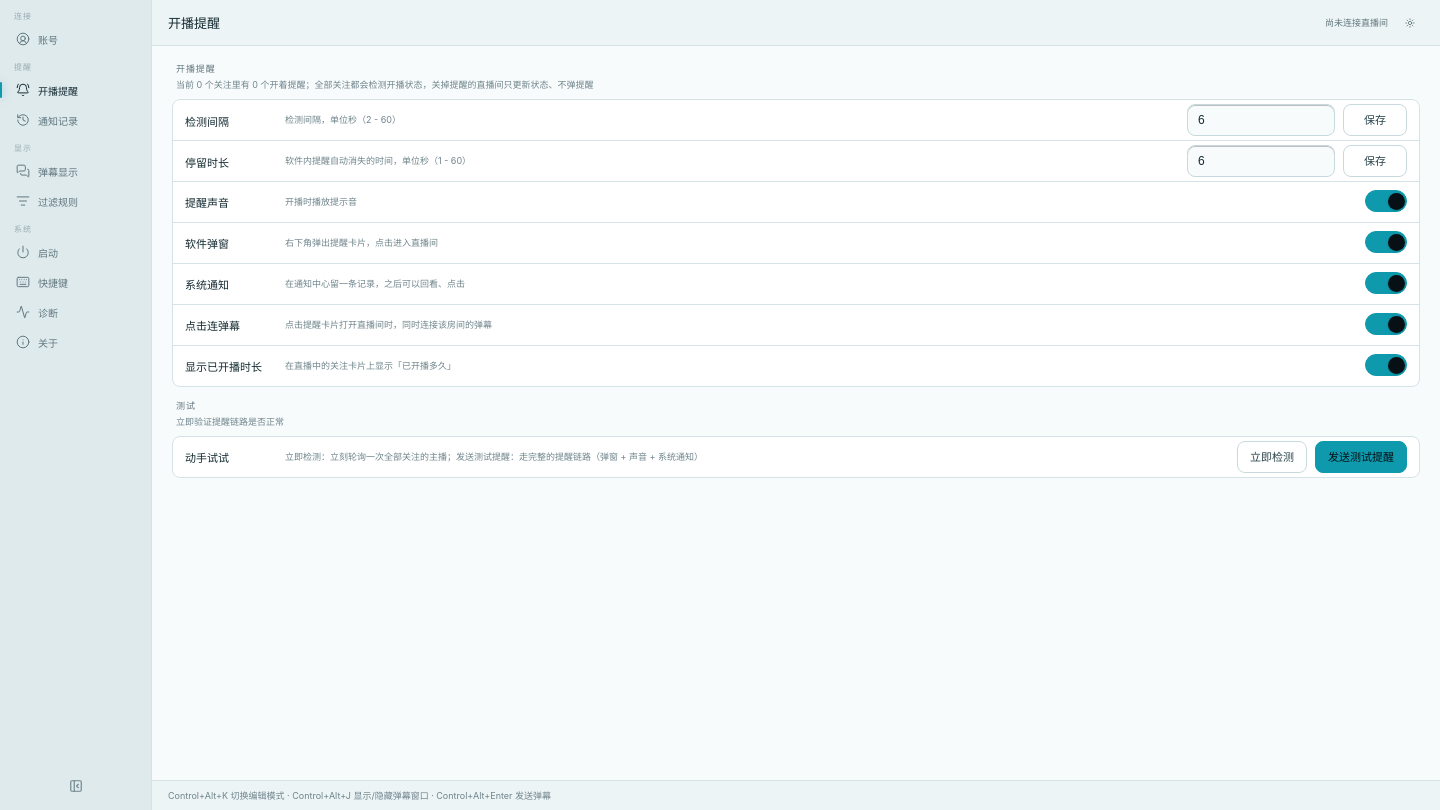
restores the prior theme and error when header theme persistence fails
The width and height of the screenshot is (1440, 810).
Click the button named "切换到亮色主题": (1410, 22) [1396, 8, 1424, 36]
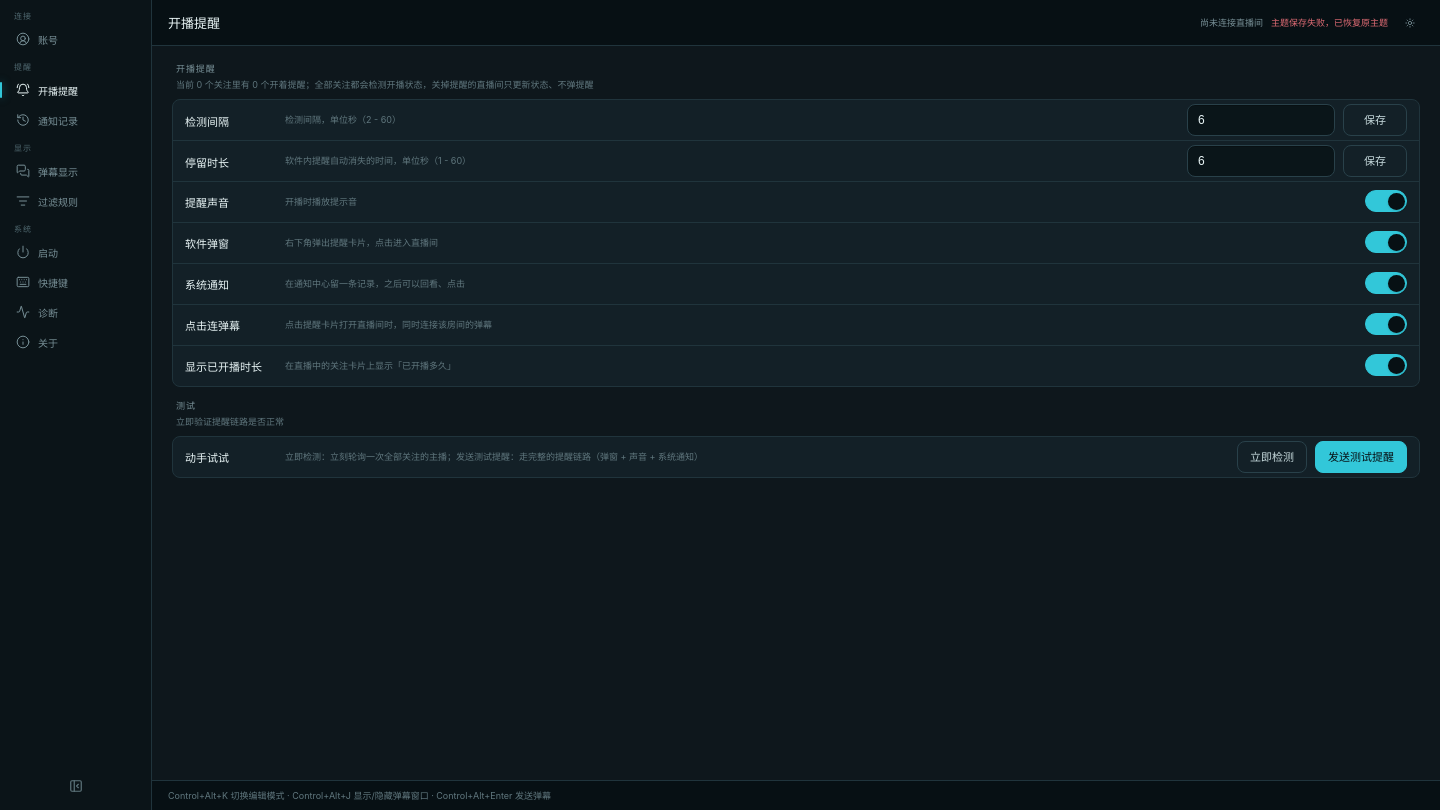
Result: the message reads "主题保存失败，已恢复原主题" at [1271, 17, 1388, 28]
